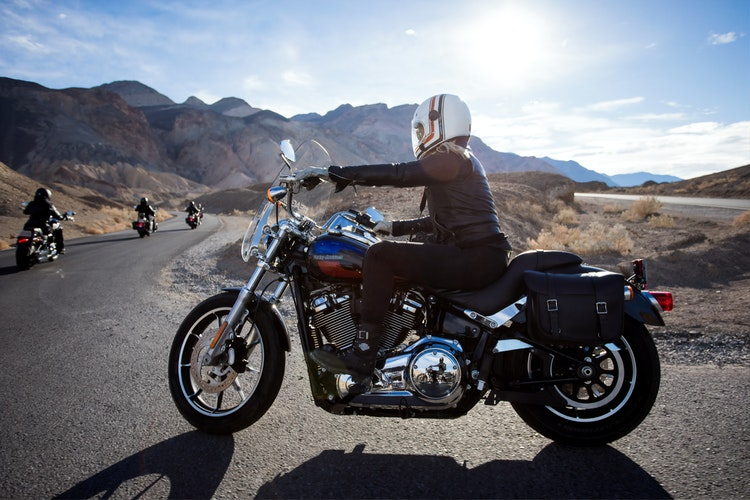helmet: (403, 95, 478, 157)
